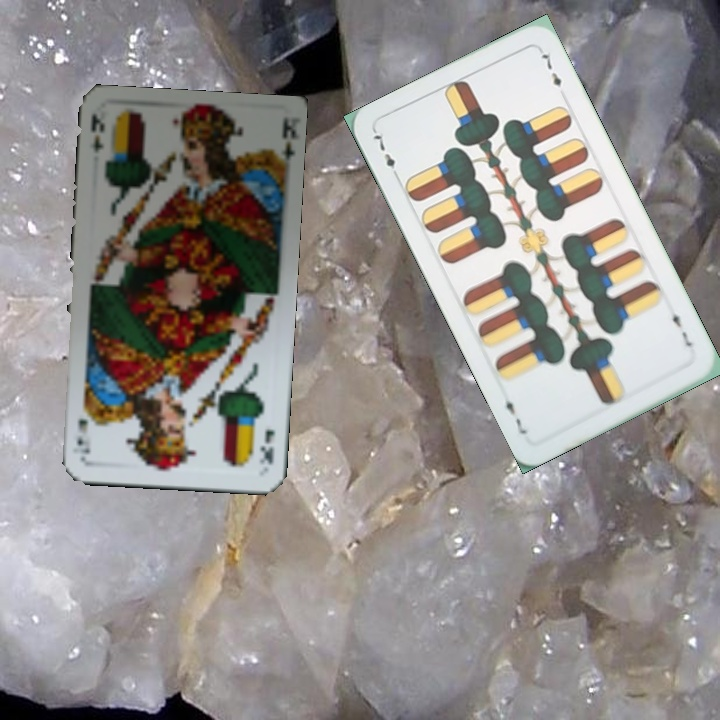E7: (368, 127, 403, 183), (668, 303, 695, 350)
EK: (255, 425, 278, 467), (87, 109, 108, 155)
